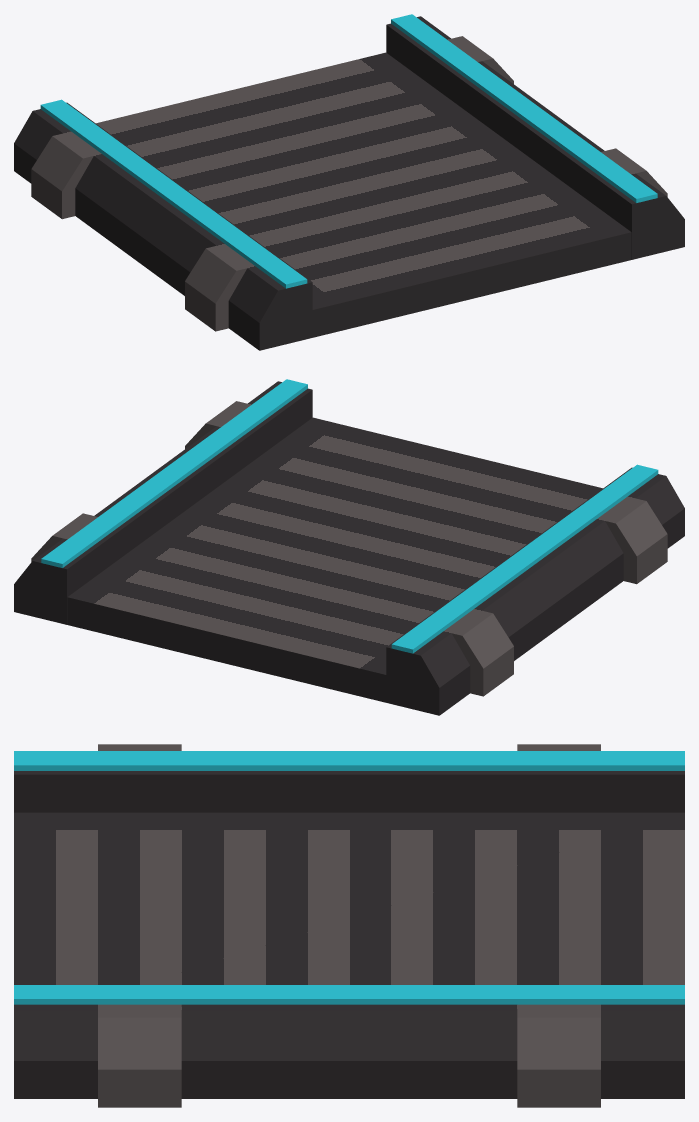
Rendered from CarbonConveyor.glb.
3 views of the same model, one above another, from view 1: azimuth 30°, elevation 25°; view 2: azimuth 150°, elevation 25°; view 3: azimuth 270°, elevation 25° (orthographic). The views are drawn at different scales.
Visible parts, largest first — view 1: Belt, Side, Lights; view 2: Belt, Side, Lights; view 3: Belt, Side, Lights.
Part boxes in pixels (box(x1,y1,x2,y2)): Belt: box(96, 52, 631, 337); Side: box(14, 16, 684, 350); Lights: box(40, 14, 657, 288); Belt: box(67, 417, 602, 702); Side: box(14, 381, 684, 715); Lights: box(41, 379, 658, 653); Belt: box(14, 812, 684, 984); Side: box(14, 744, 684, 1107); Lights: box(14, 751, 684, 1004).
Size of the model in its own units: 1.06 by 0.1344 by 1.
1 material, 1 textured.
